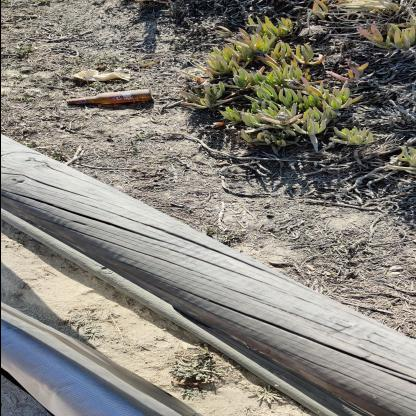cam: (65, 89, 153, 104)
